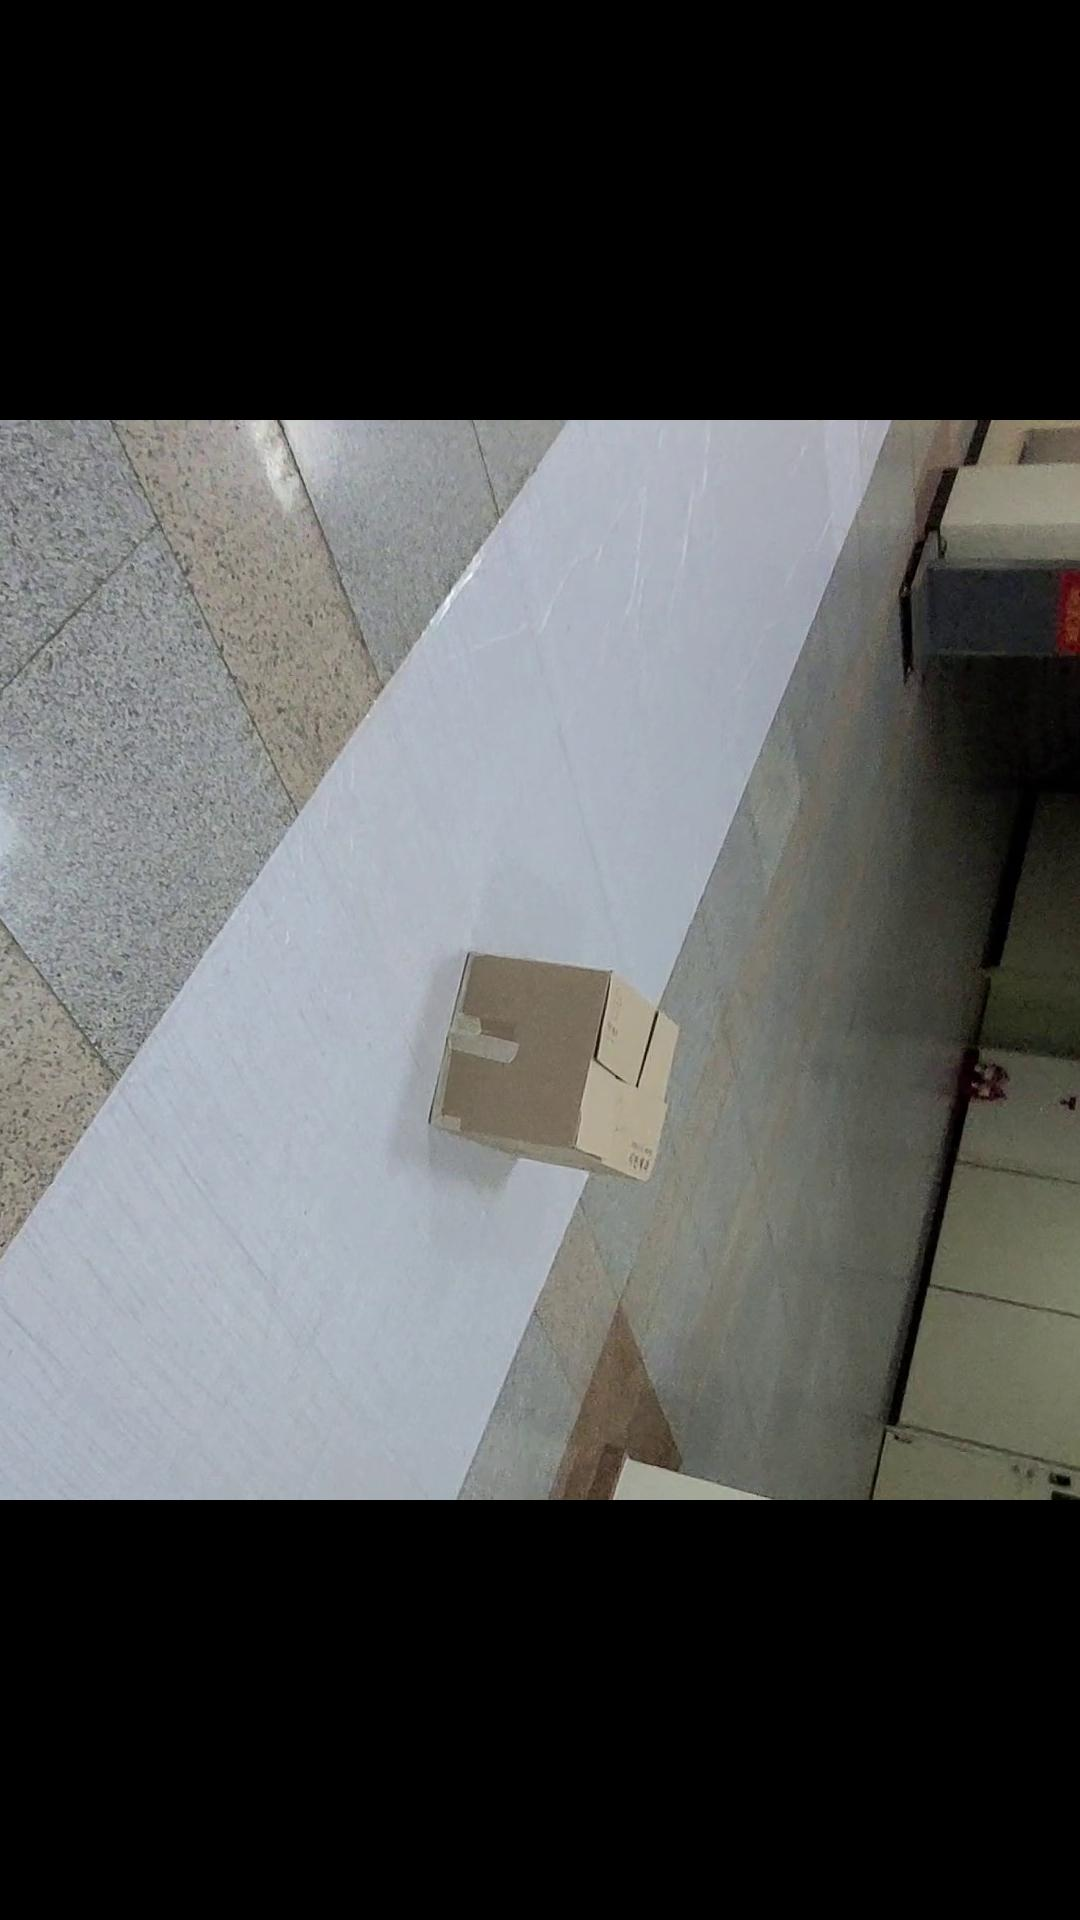Box: (365, 918, 725, 1207)
